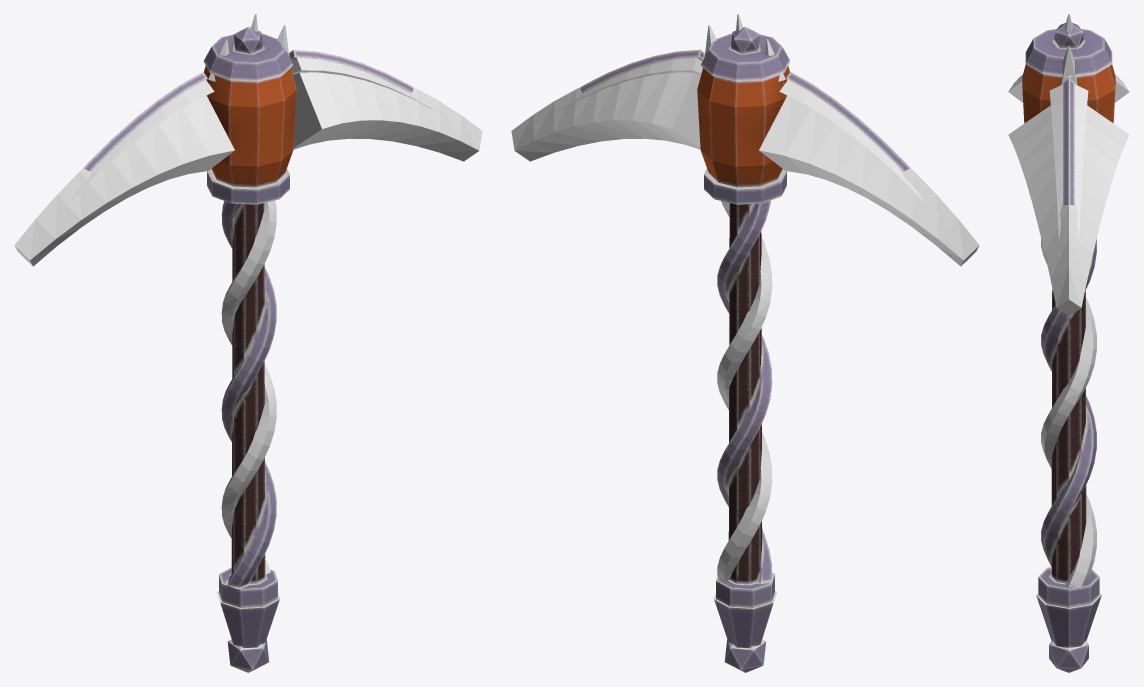
The model's file is FireglassPickaxe.glb.
The picture shows the model from 3 angles, left to right: view 1: azimuth 30°, elevation 25°; view 2: azimuth 150°, elevation 25°; view 3: azimuth 270°, elevation 25°; orthographic projection.
Visible parts, largest first — view 1: Body__Tex, Head__Crystal, Head__Accent; view 2: Body__Tex, Head__Crystal, Head__Accent; view 3: Body__Tex, Head__Crystal, Head__Accent.
Boxes of the visible parts, bbox=[...] form: Body__Tex: bbox=[83, 26, 413, 672]; Head__Crystal: bbox=[14, 72, 482, 574]; Head__Accent: bbox=[55, 14, 449, 217]; Body__Tex: bbox=[580, 26, 910, 672]; Head__Crystal: bbox=[511, 72, 979, 580]; Head__Accent: bbox=[544, 14, 938, 217]; Body__Tex: bbox=[1022, 23, 1115, 672]; Head__Crystal: bbox=[1008, 74, 1129, 589]; Head__Accent: bbox=[1049, 14, 1088, 257].
Bounding box in the file's own units: 3.23 × 4.33 × 0.72.
1 material, 1 textured.
